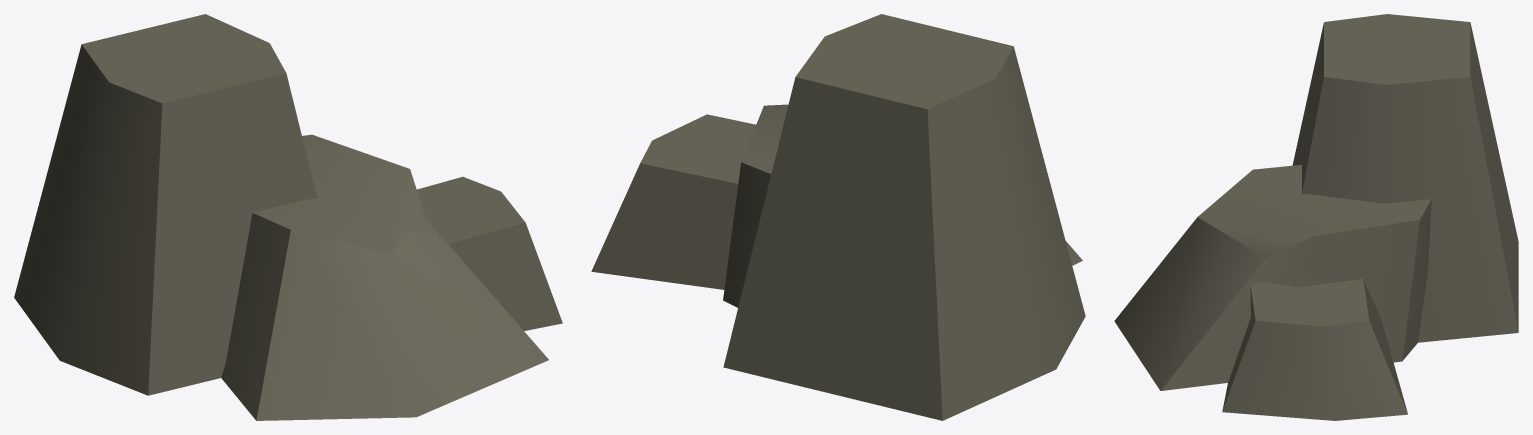
The model's file is SM_island_rocks_40.fbx.
3 views of the same model, side by side, from view 1: azimuth 30°, elevation 25°; view 2: azimuth 150°, elevation 25°; view 3: azimuth 270°, elevation 25° (orthographic). The views are drawn at different scales.
Visible parts, largest first — view 1: island_rocks_40; view 2: island_rocks_40; view 3: island_rocks_40.
Part boxes in pixels (<box>): island_rocks_40: <box>14,14,562,420</box>; island_rocks_40: <box>591,14,1085,420</box>; island_rocks_40: <box>1114,14,1518,420</box>.
Bounding box in the file's own units: 308 × 178 × 274.
Materials: 1 (1 with a texture image).
